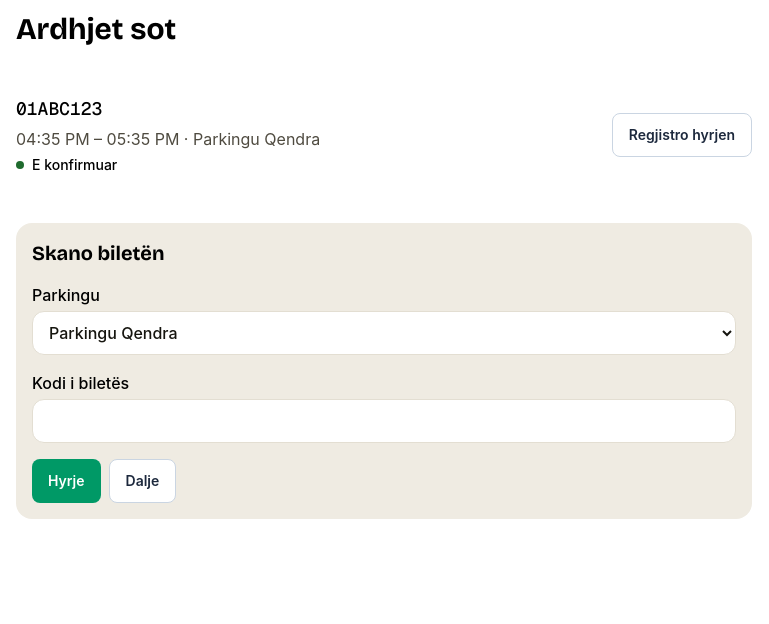
Test: lists › owner checks in an arrival
The image size is (769, 624).
What coordinates should you click on to do the following:
click the button "Regjistro hyrjen"
I would click on:
 (682, 135)
Its box is [612,113,752,157].
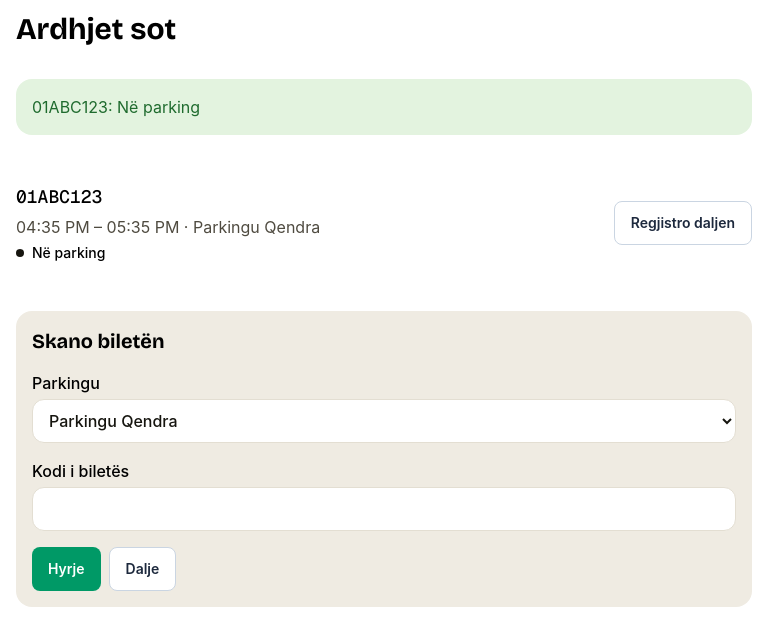
Result: the button "Regjistro daljen" is shown at [614,201,752,245]
Result: the message reads "01ABC123: Në parking" at [32,97,200,117]
